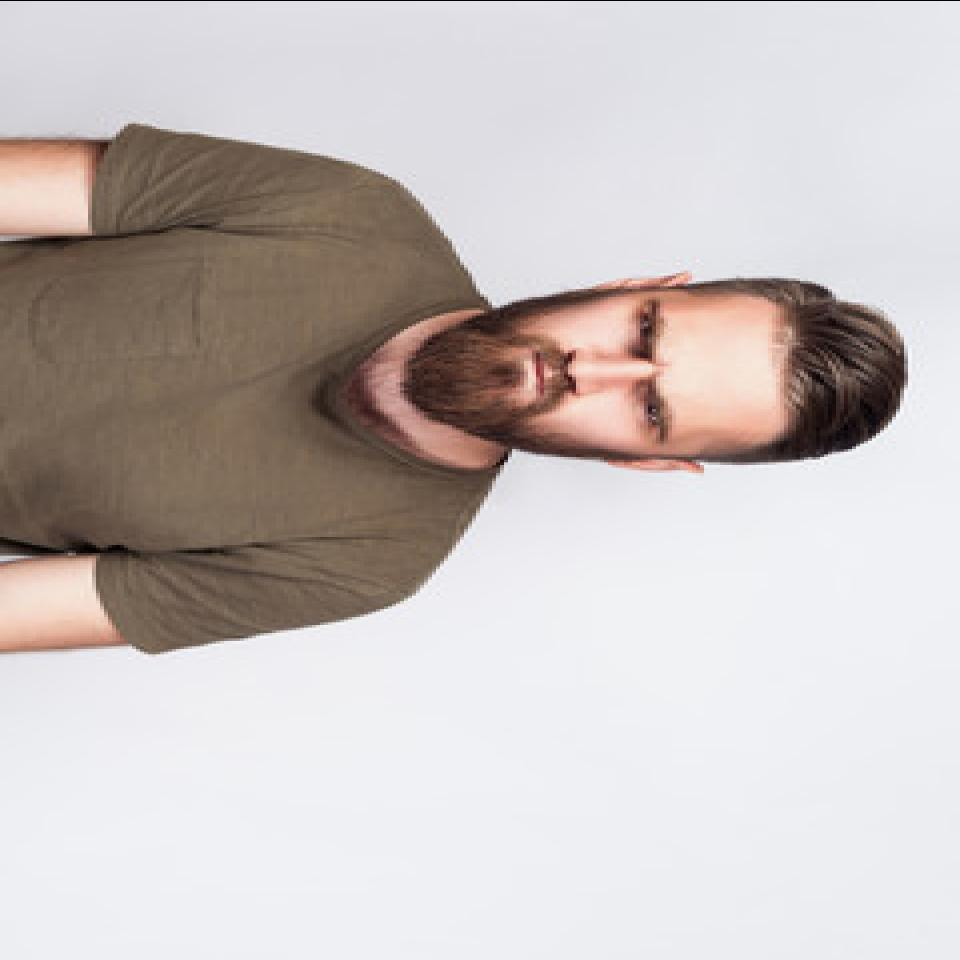Anger: (430, 286, 774, 456)
